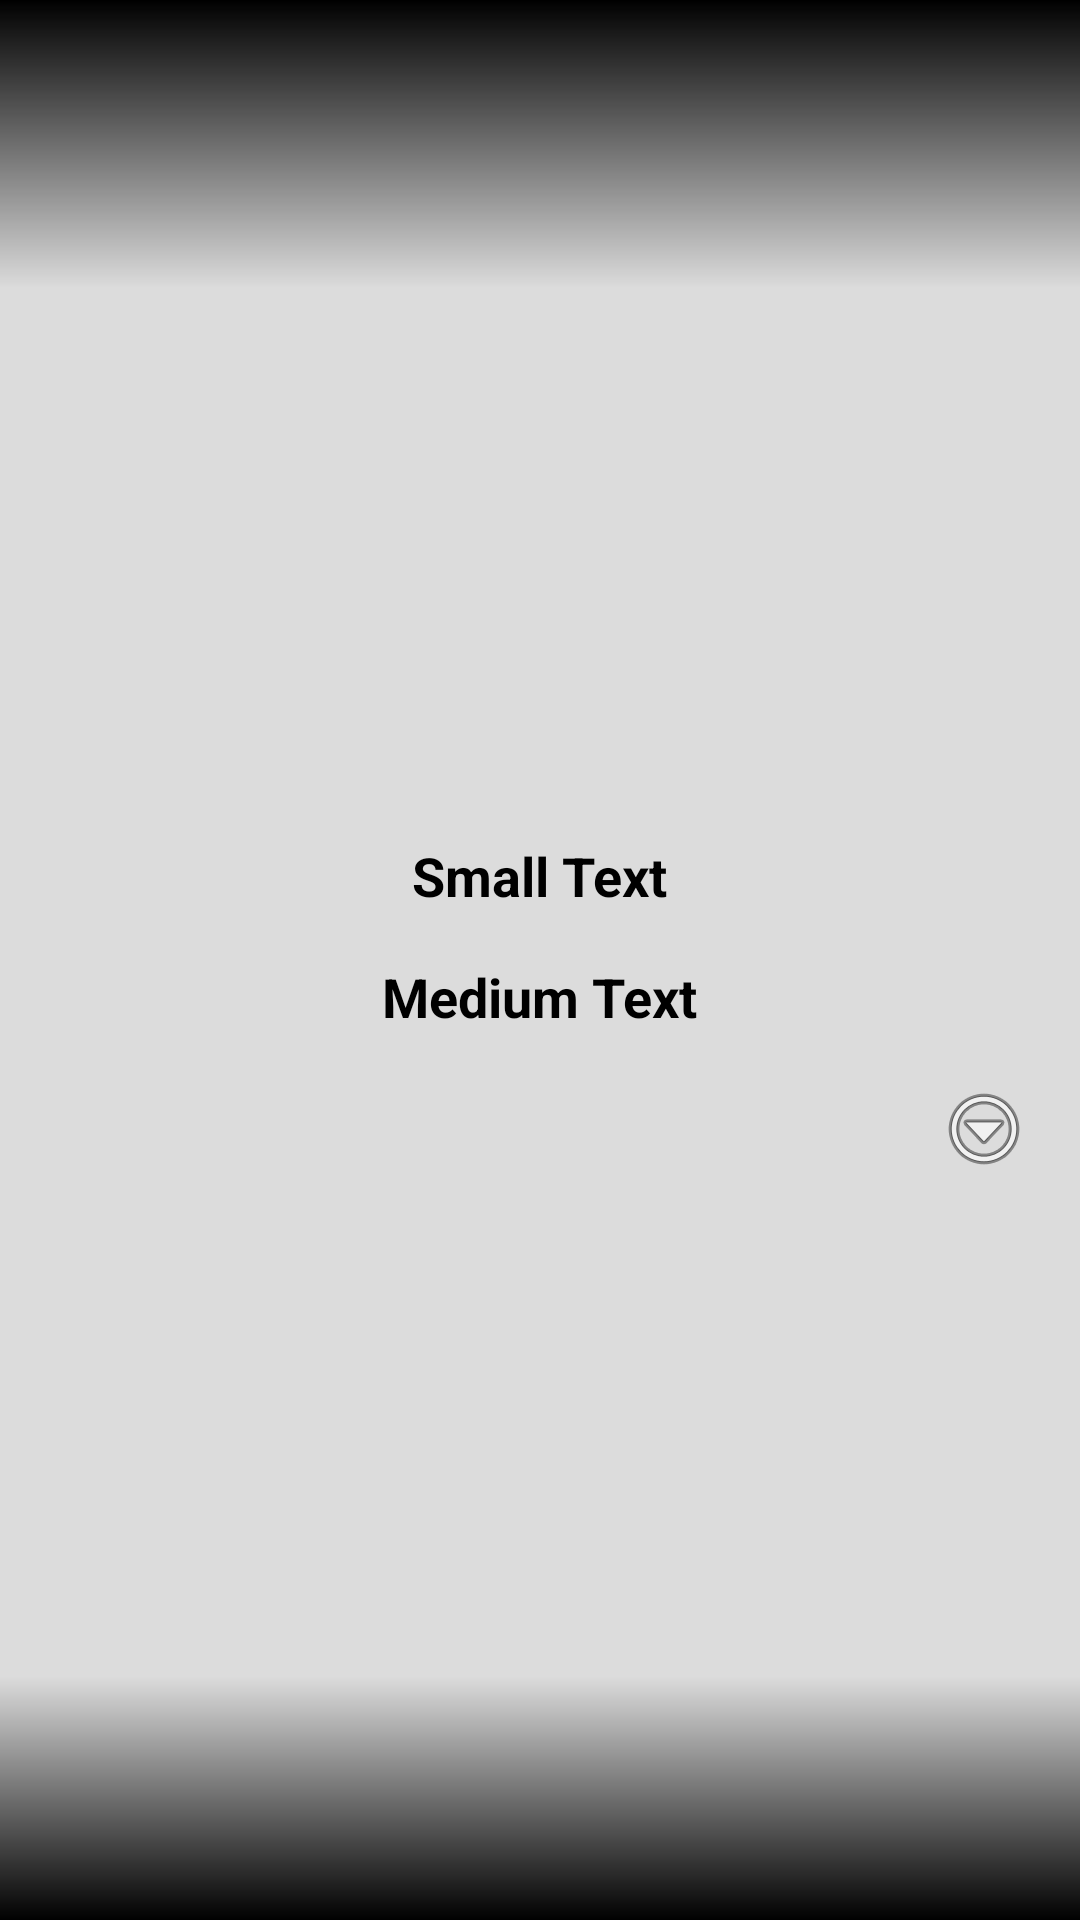

Icon bounding boxes for this 1080px x 1920px phone screenshot, format (x1, y1, x2, y2):
more: (948, 1093, 1020, 1165)
